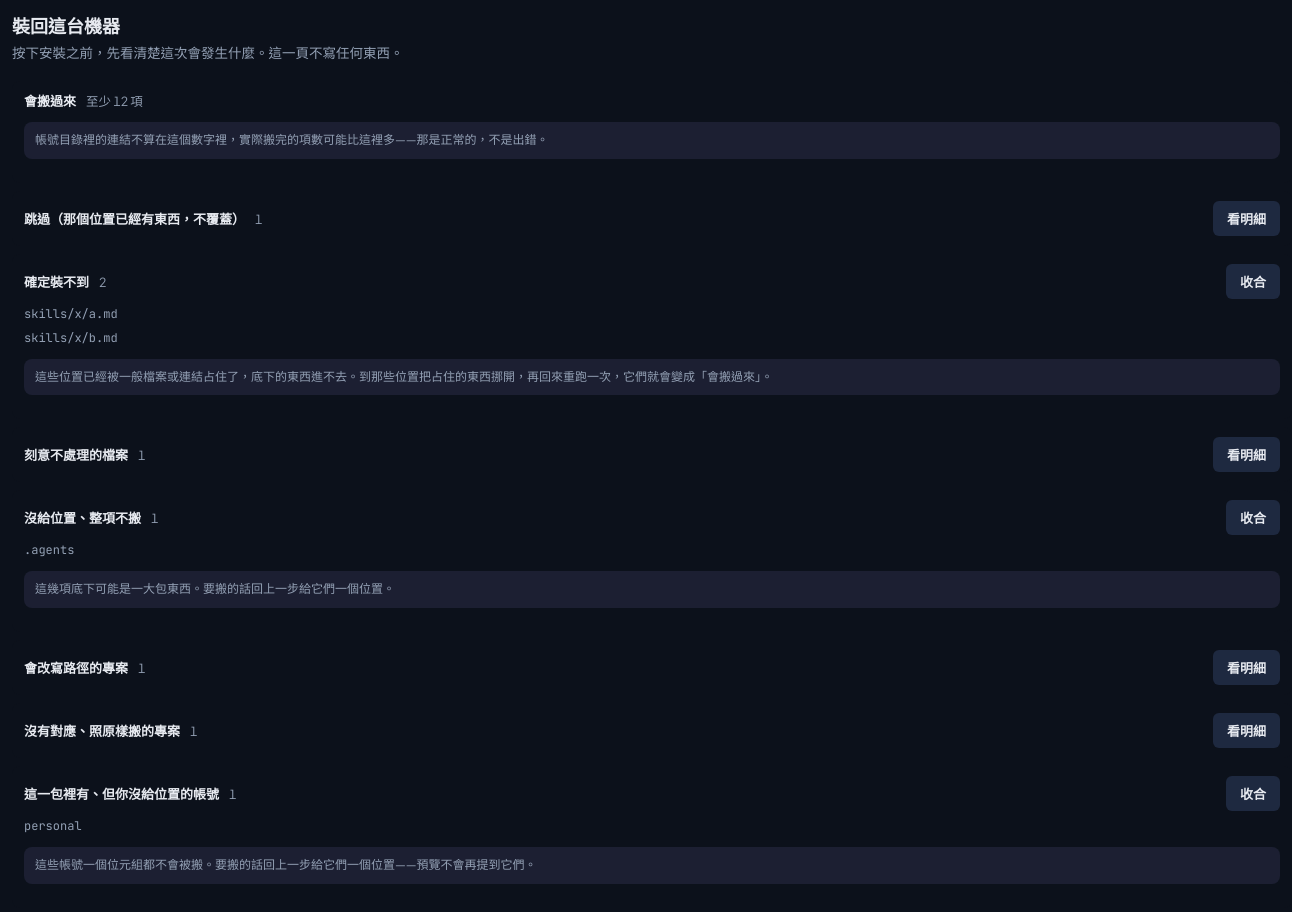
InstallPreviewCard › 「不處理」拆成兩行：逐檔的與整包不搬的 extra
Expected: the text "刻意不處理的檔案" is shown, [24,445,128,464]
Click the button "看明細" in the row of "刻意不處理的檔案".
click(1246, 455)  # box [1213,437,1280,472]
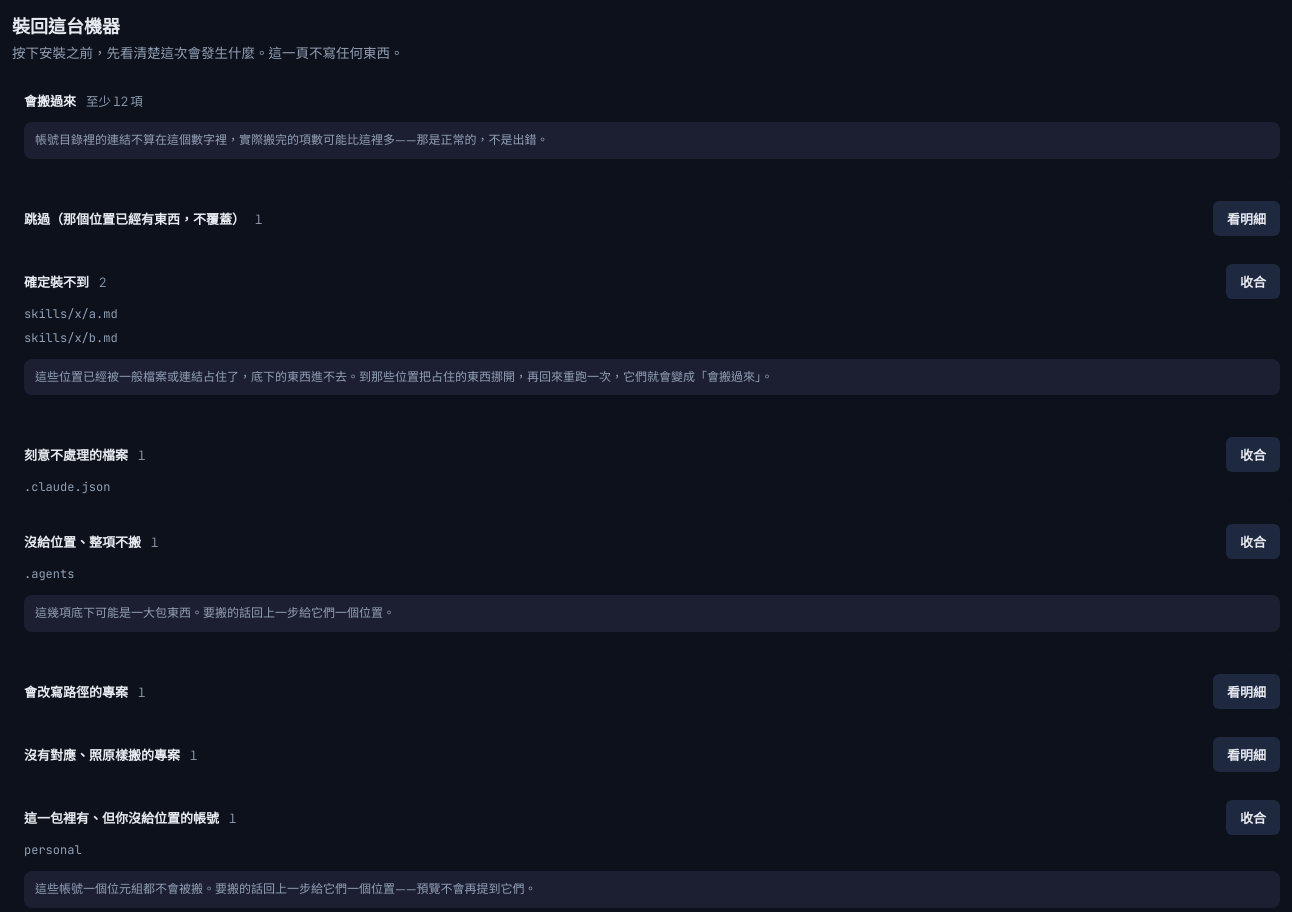
Expected: the text "沒給位置、整項不搬" is shown, [24,532,141,551]
Expected: the text ".claude.json" is shown, [24,479,110,495]
